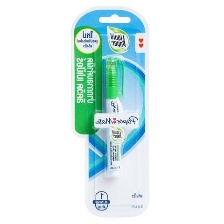book: (69, 5, 152, 221)
correction_fluid: (102, 53, 129, 178)
